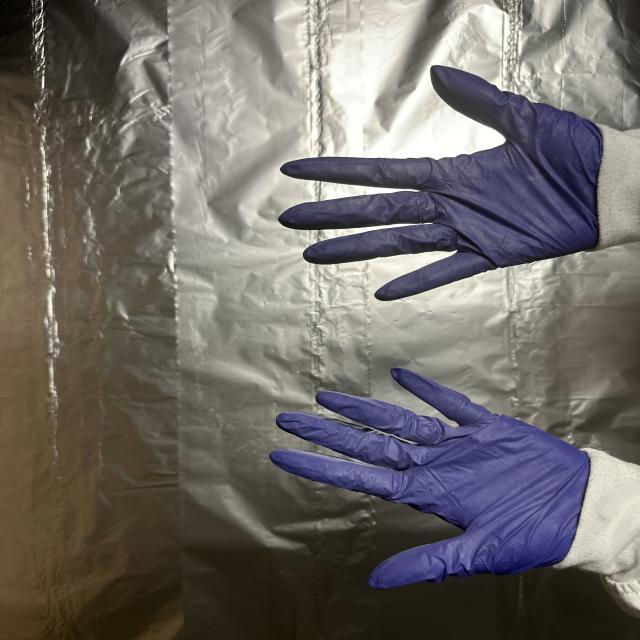gloves_contaminated: (279, 67, 603, 300), (270, 367, 590, 588)
